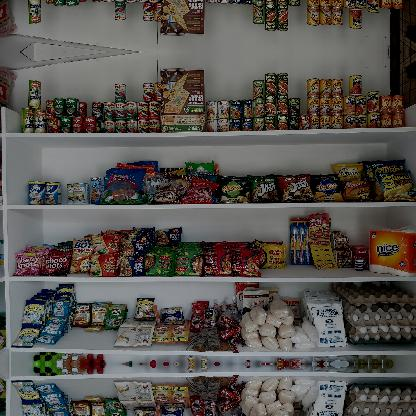Koko-Krunch: (160, 68, 206, 132), (160, 0, 206, 37)
